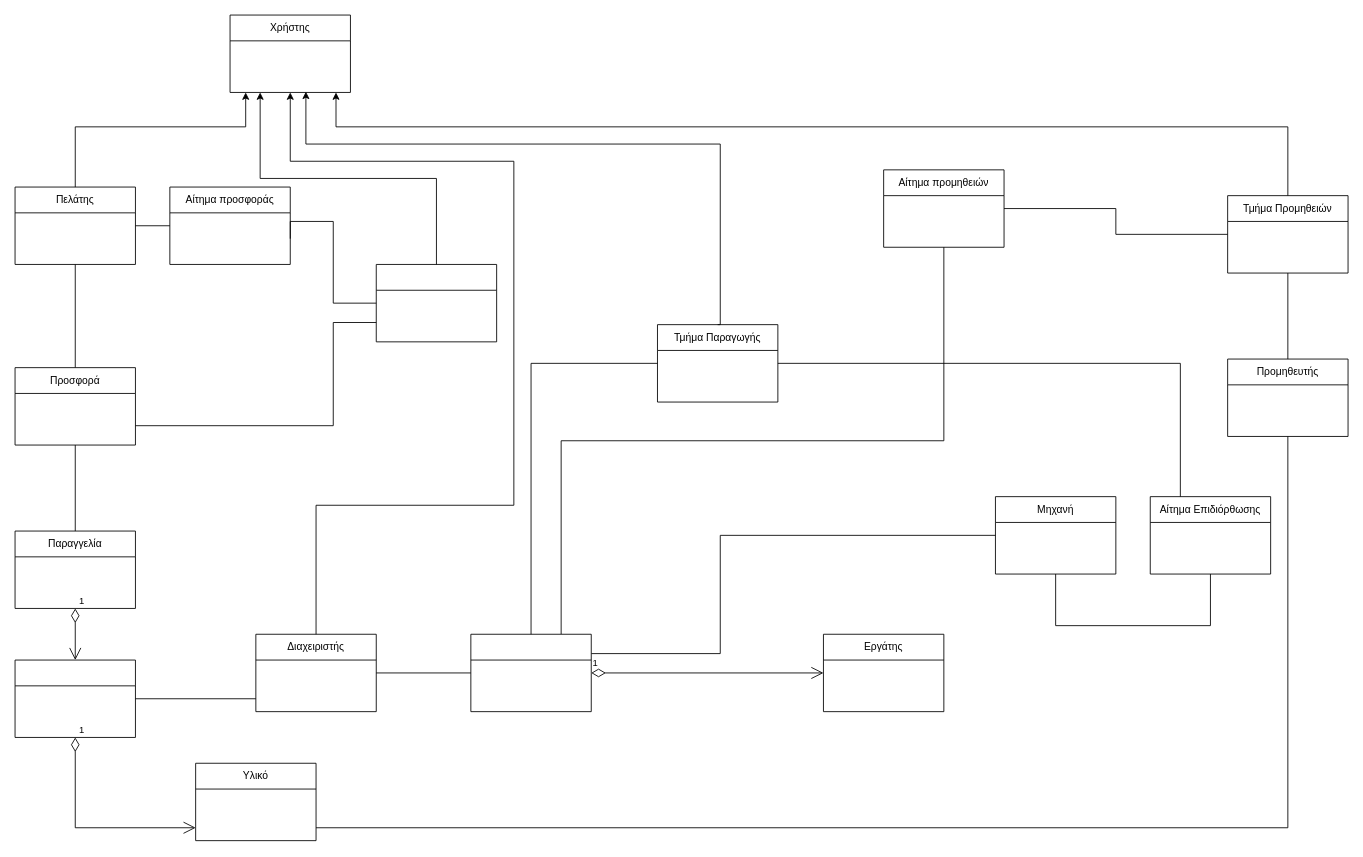
Some shapes in this 1363 by 857 pixel diagram are drawn without their labels. Here are the shapes that lost their labels. From the top down, the box of each, then its label:
(375, 264, 497, 342): Τμήμα Πωλήσεων
(470, 633, 591, 712): ¨Εργο
(14, 659, 135, 737): Προϊόν
